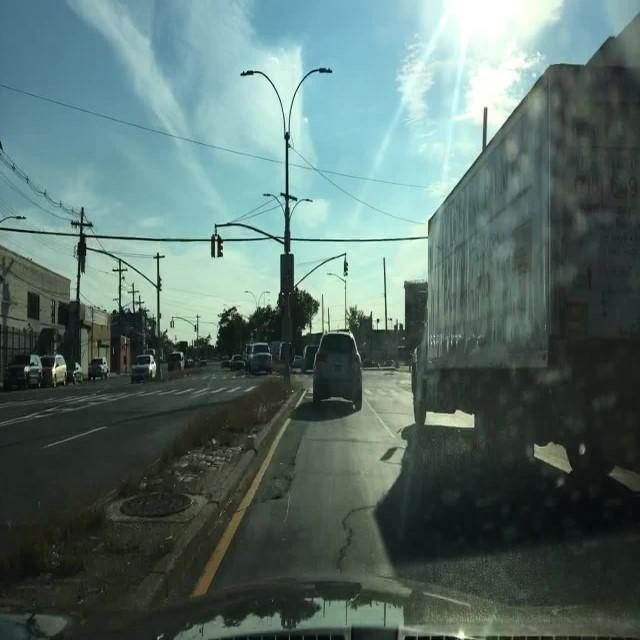normal: (131, 353, 157, 382)
